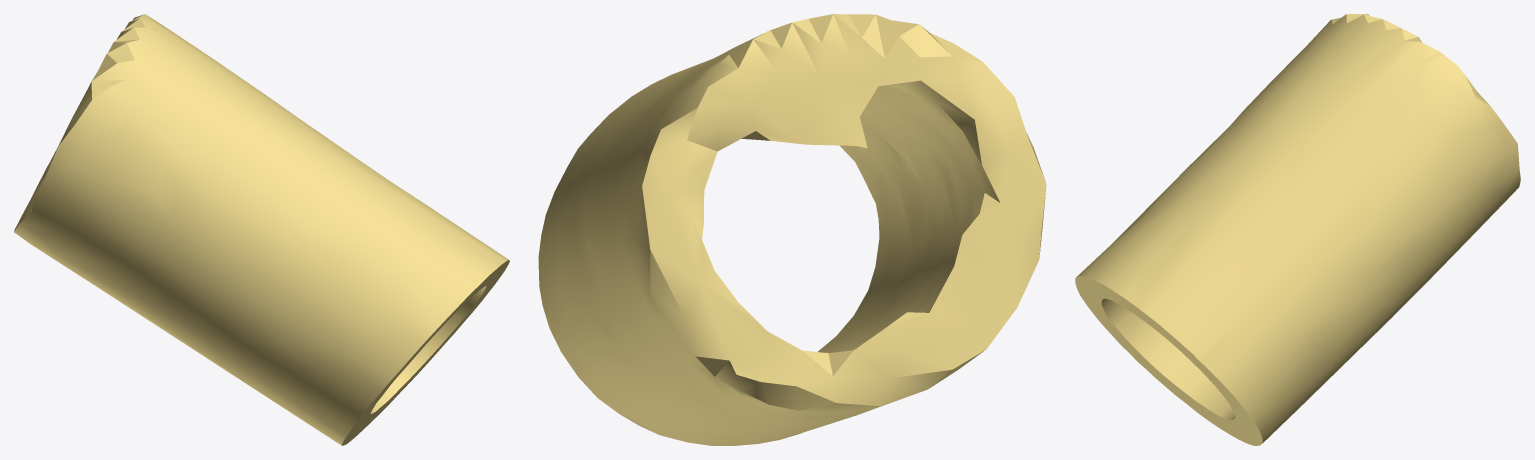
The model's file is fma58727_mm2242.glb.
3 renders of one model, left to right at view 1: azimuth 30°, elevation 25°; view 2: azimuth 150°, elevation 25°; view 3: azimuth 270°, elevation 25°, orthographic. The views are drawn at different scales.
Visible parts, largest first — view 1: FMA58727_MM2242; view 2: FMA58727_MM2242; view 3: FMA58727_MM2242.
Boxes of the visible parts, <box> form: FMA58727_MM2242: <box>14,14,509,445</box>; FMA58727_MM2242: <box>538,14,1046,445</box>; FMA58727_MM2242: <box>1075,14,1520,445</box>.
Size of the model in its own units: 0.00804 by 0.0074 by 0.00854.
